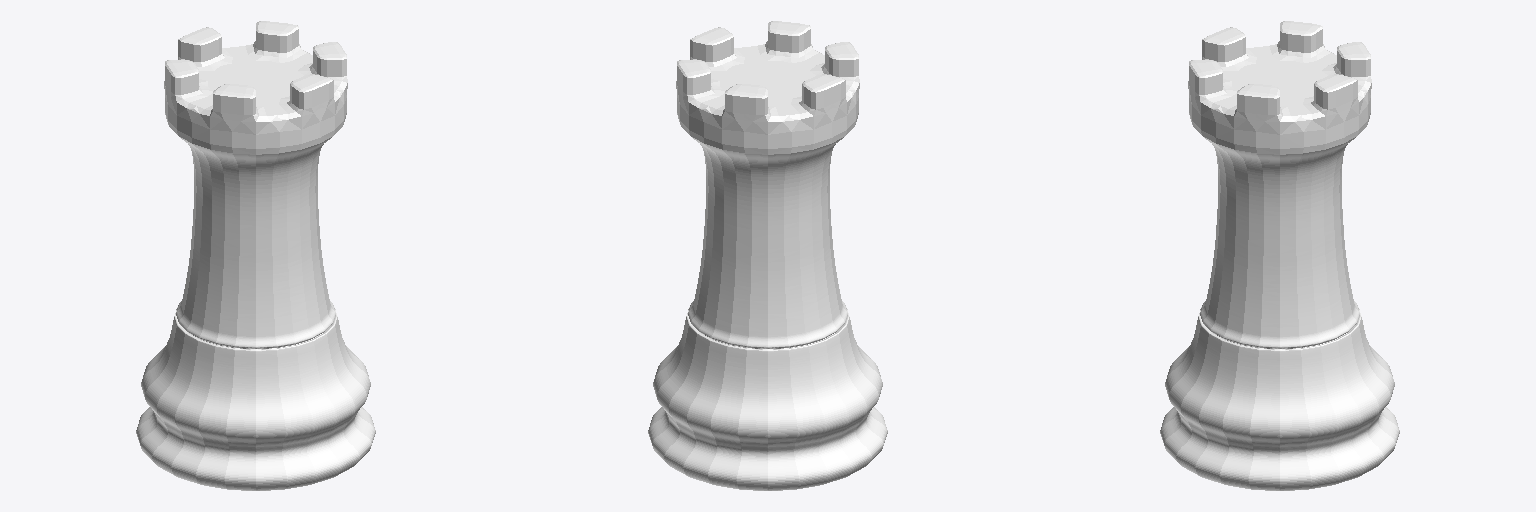
Rendered from Rook.obj.
The picture shows the model from 3 angles: view 1: azimuth 30°, elevation 25°; view 2: azimuth 150°, elevation 25°; view 3: azimuth 270°, elevation 25°; orthographic projection.
Parts seen in each view (by area): view 1: mesh01.004; view 2: mesh01.004; view 3: mesh01.004.
Part boxes in pixels (x1,y1,x2,y2): mesh01.004: (136, 21, 375, 490); mesh01.004: (648, 21, 887, 490); mesh01.004: (1160, 21, 1399, 490).
Size of the model in its own units: 0.0131 by 0.0239 by 0.0131.